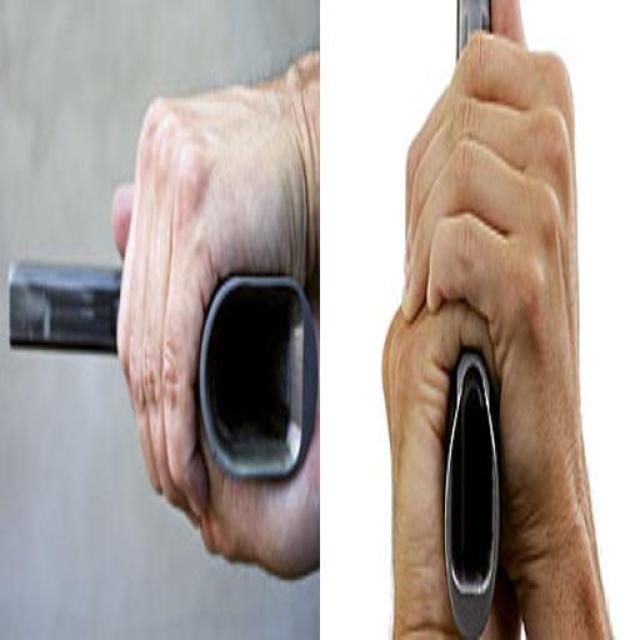pistol: (5, 246, 314, 494), (432, 4, 515, 626)
